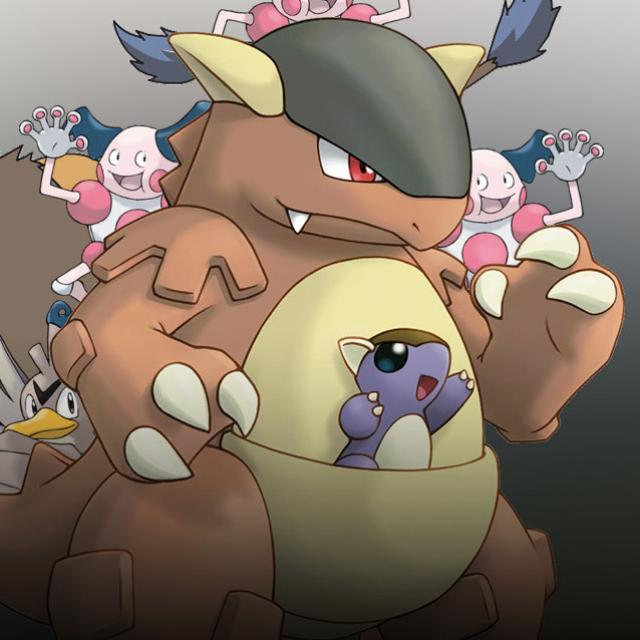Kangaskhan: (98, 45, 505, 640)
MrMime: (25, 103, 182, 222), (470, 129, 588, 262)
